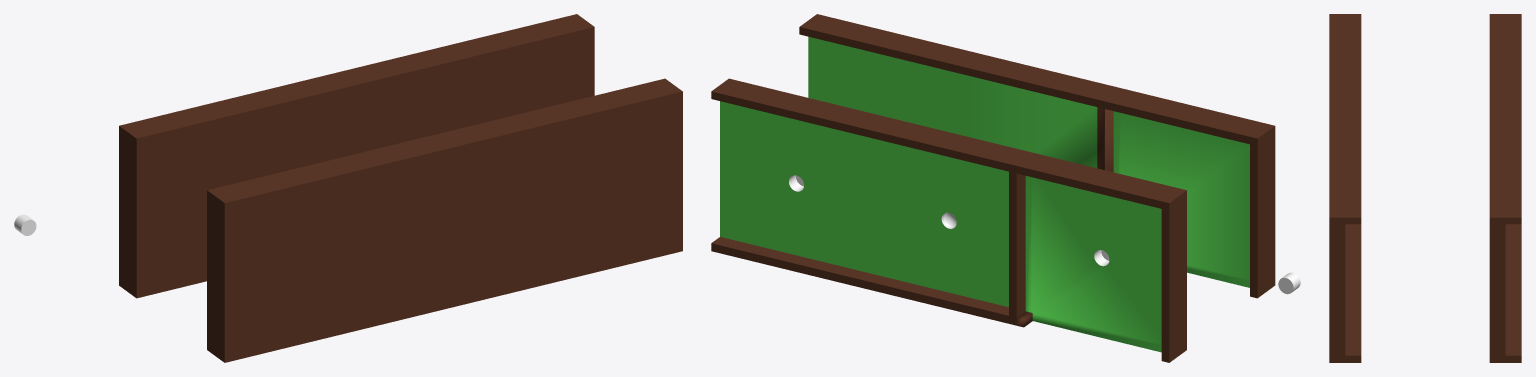
File: Golf.fbx
3 renders of one model, left to right at view 1: azimuth 30°, elevation 25°; view 2: azimuth 150°, elevation 25°; view 3: azimuth 270°, elevation 25°, orthographic. The views are drawn at different scales.
Parts seen in each view (by area): view 1: Corner, Straight, End, Corner + hole, Straight + hole, End + hole; view 2: Corner + hole, End + hole, Straight + hole, Corner, Straight, End; view 3: Straight + hole, Straight, End + hole, End, Corner, Corner + hole.
Part boxes in pixels (x1,y1,x2,y2): Corner: (207,153,377,362); Straight: (513,78,682,288); End: (360,116,529,325); Corner + hole: (119,88,289,298); Straight + hole: (424,14,594,132); End + hole: (272,51,441,169); Corner + hole: (1016,153,1186,362); End + hole: (864,116,1033,325); Straight + hole: (711,78,881,288); Corner: (1105,88,1275,298); Straight: (799,14,969,134); End: (952,51,1121,172); Straight + hole: (1489,149,1521,362); Straight: (1329,149,1361,362); End + hole: (1489,82,1521,287); End: (1329,82,1361,287); Corner: (1329,14,1361,81); Corner + hole: (1489,14,1521,81).
Size of the model in its own units: 7500 by 2000 by 2400.
